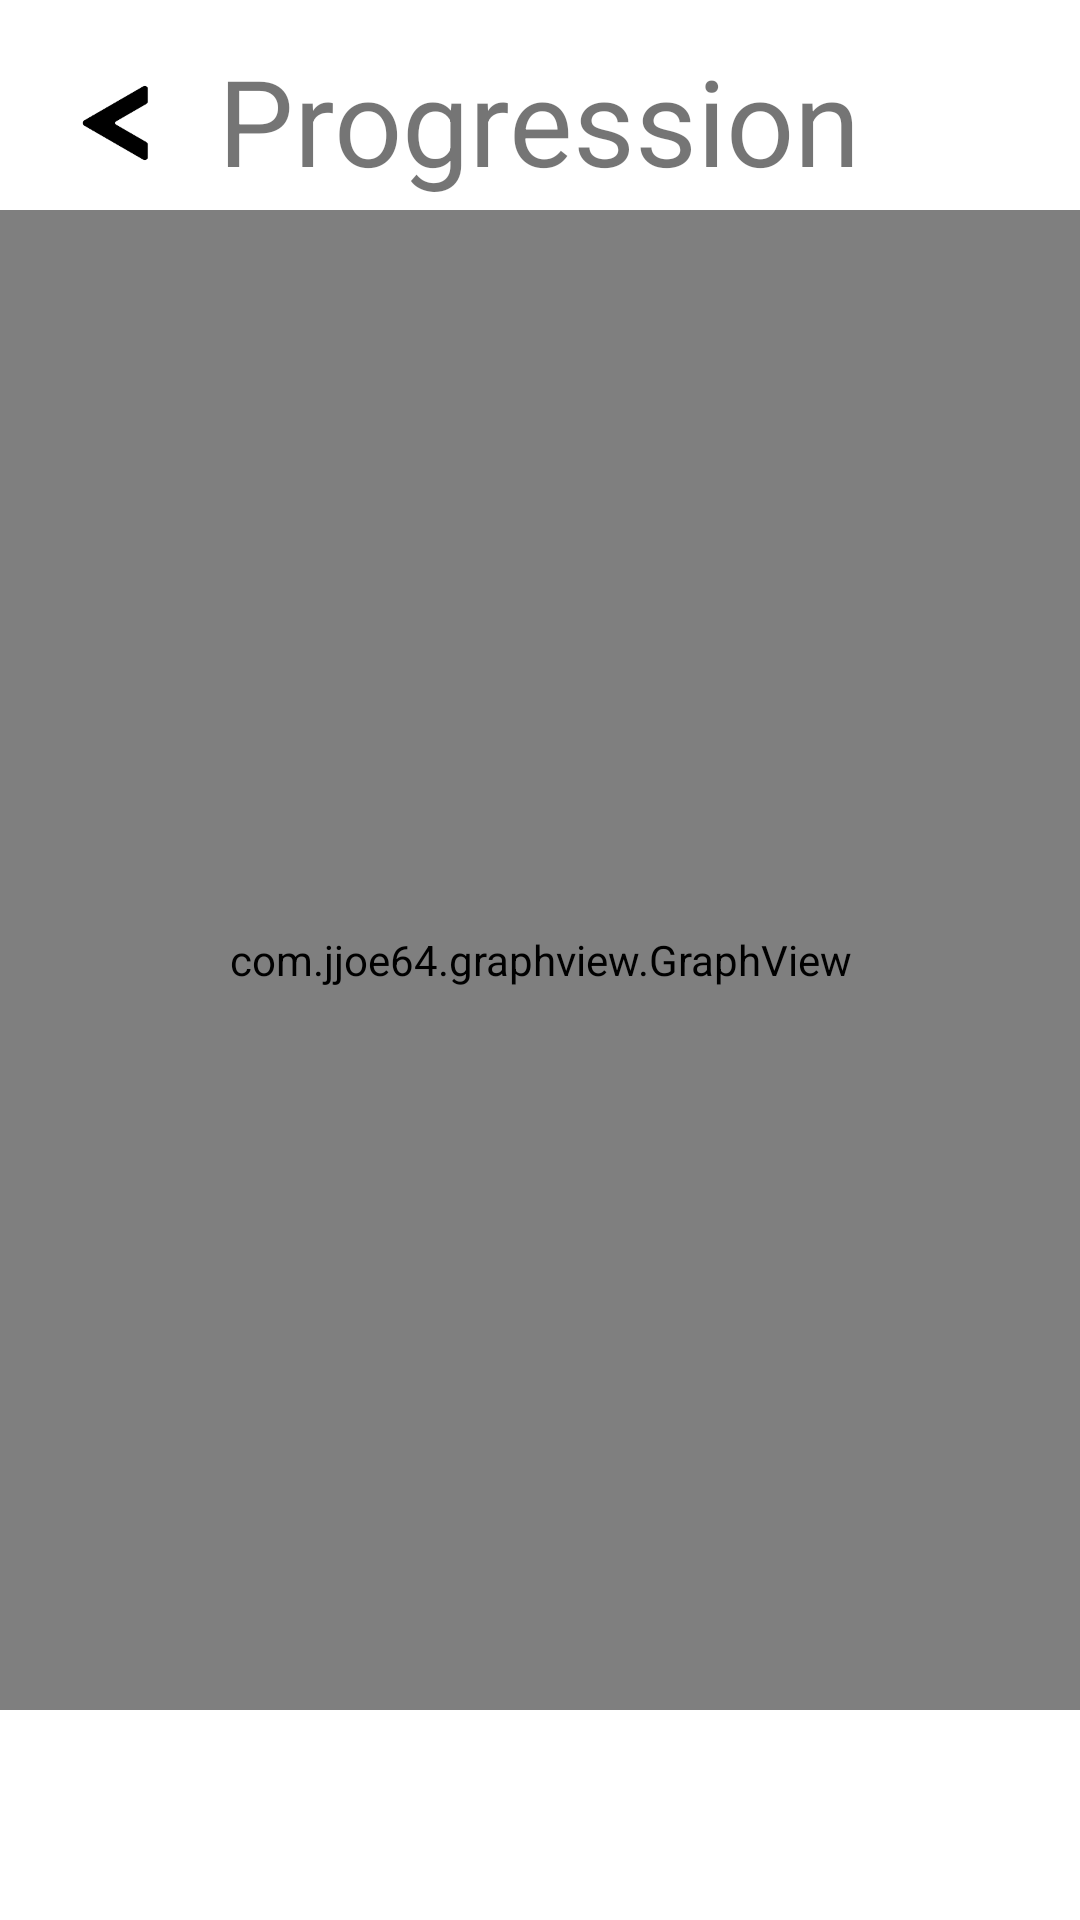

Locate icon controls on the screen. Image size 1080 x 1920, boxes as (x1, y1, x2, y2).
fleche retour: (82, 86, 148, 160)
